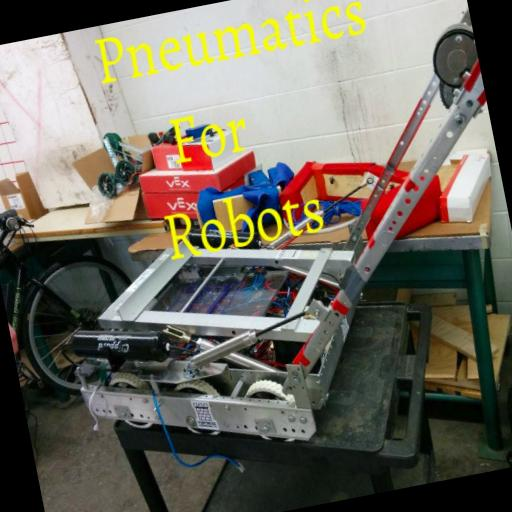robot: (20, 4, 512, 476)
